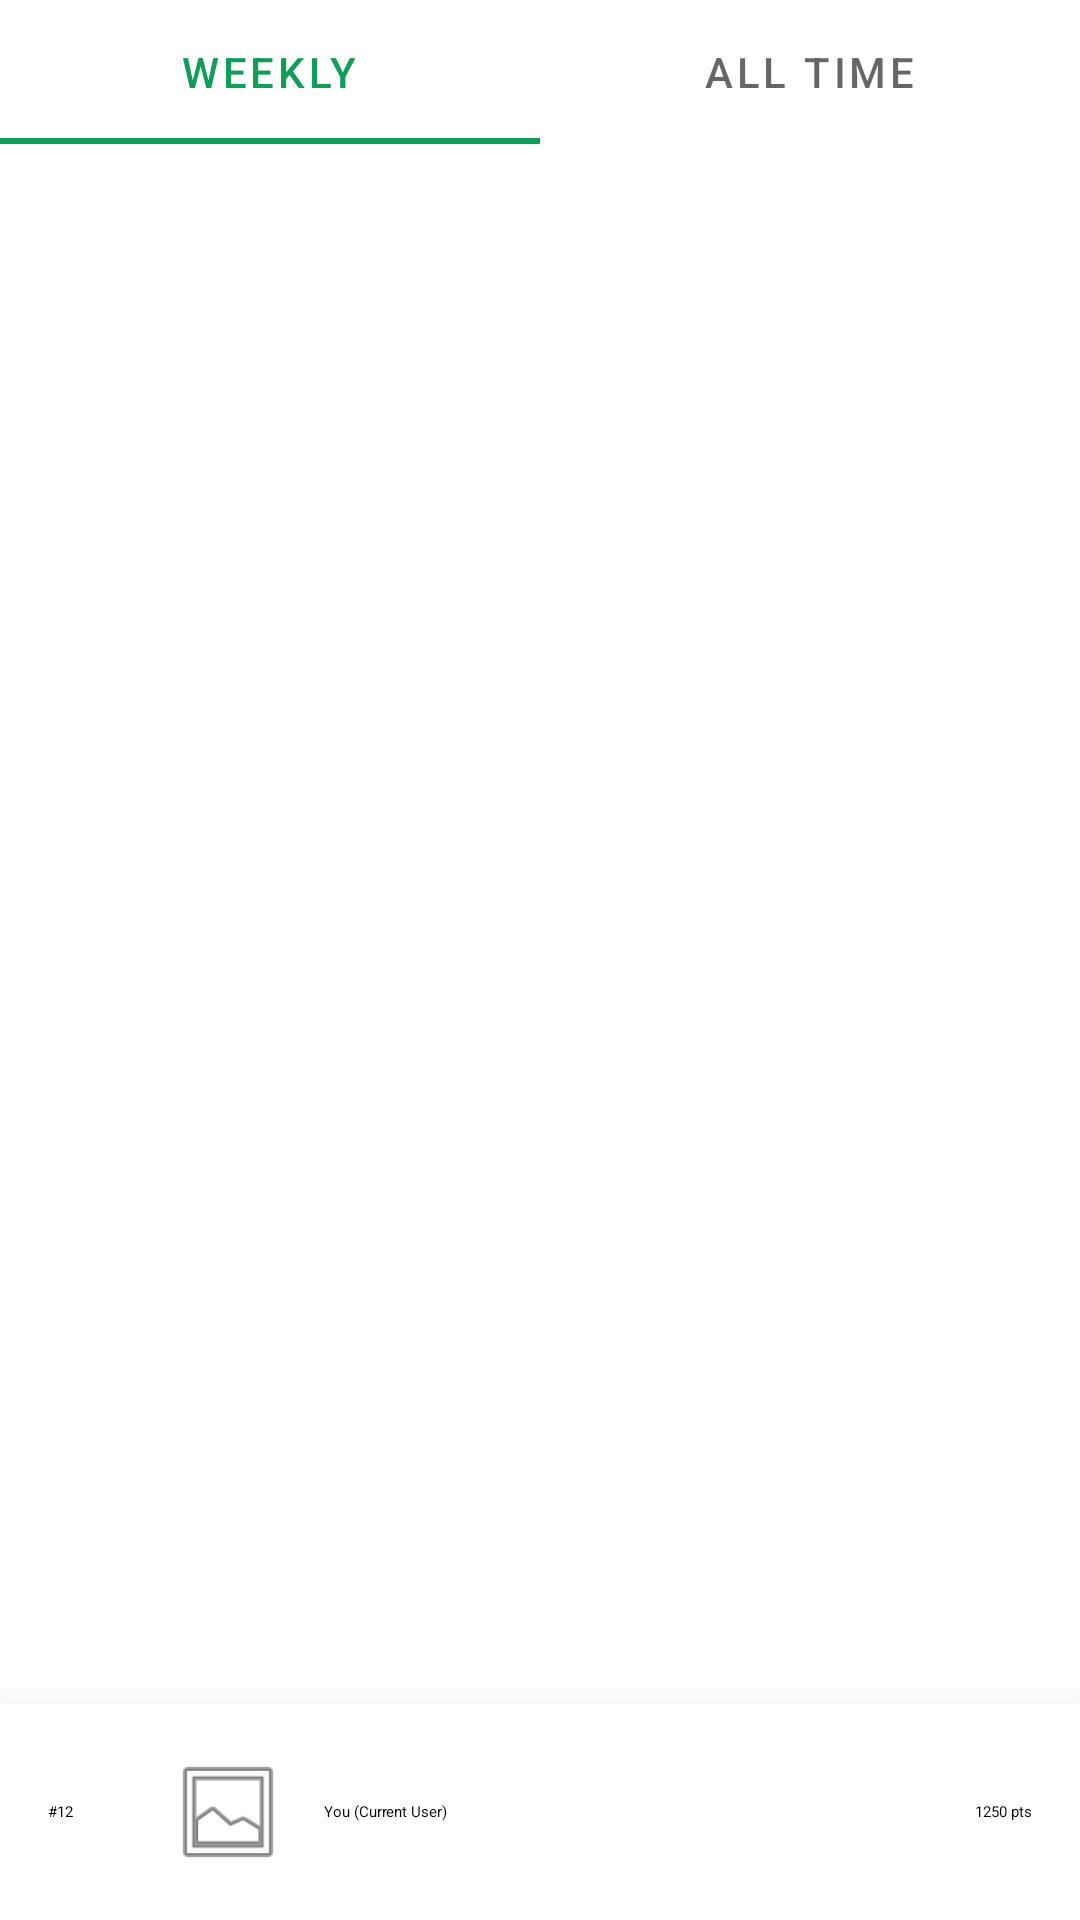

Named icons in this screenshot (1080 × 1920) and their centers, (x,y):
gallery: (228,1812)
